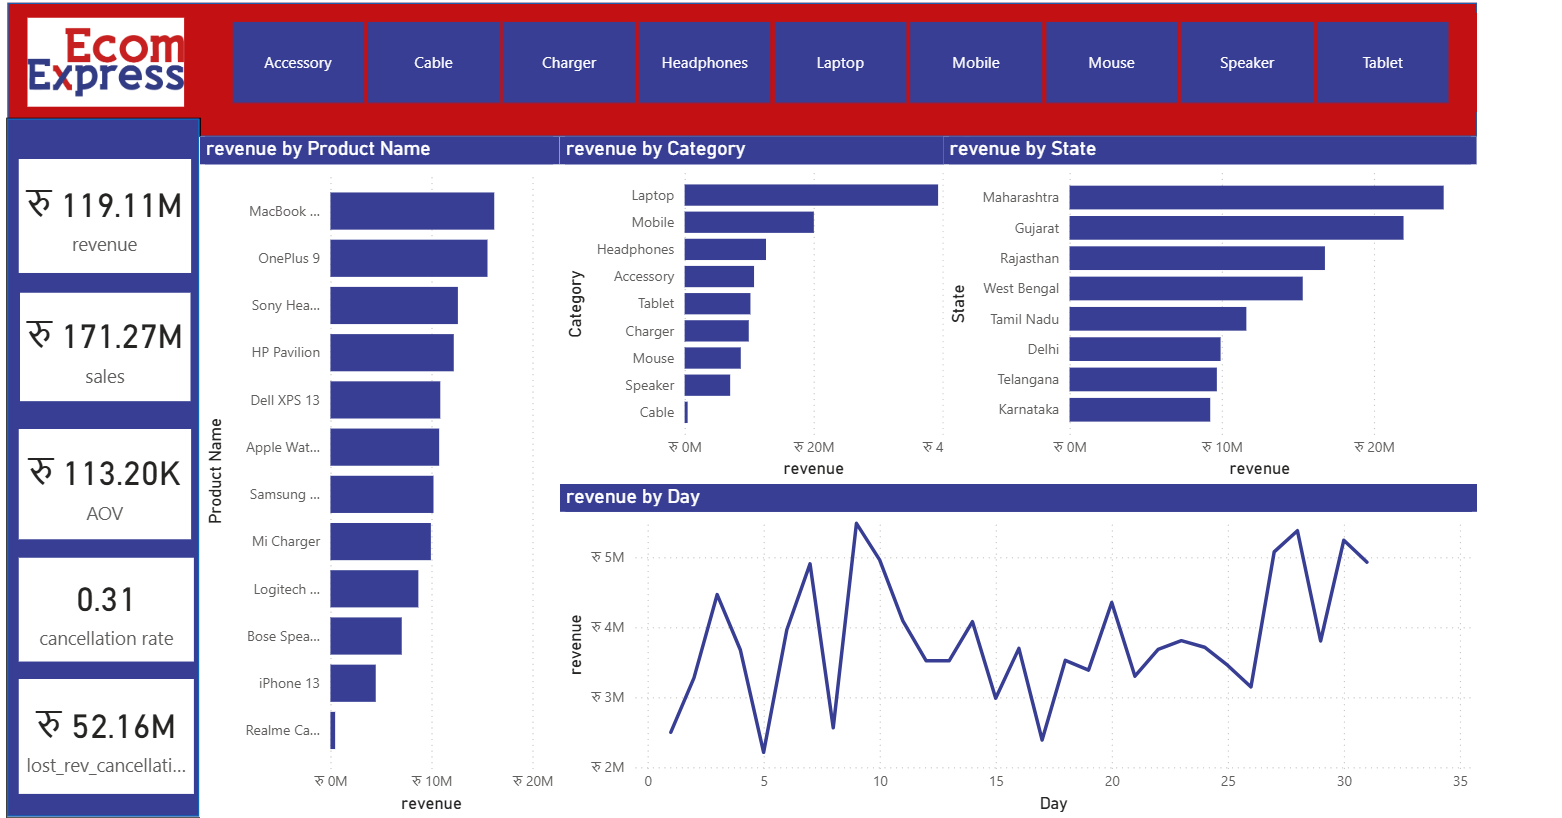

What the dashboard file says about the page in this screenshot:
{"tool":"powerbi","page":{"name":"Page 1","canvas":[1280,720],"ordinal":0},"visuals":[{"type":"shape","box":[10.7,16,1269,115.7],"z":0},{"type":"shape","box":[10,115.2,167.8,604.4],"z":1000},{"type":"image","box":[27.6,28.8,135.4,76.7],"z":2000},{"type":"clusteredBarChart","fields":{"Category":["Products.Product Name"],"Y":["table.revenue"]},"box":[177.5,131.3,310.2,588.6],"z":3000},{"type":"clusteredBarChart","fields":{"Category":["Products.Category"],"Y":["table.revenue"]},"box":[487.7,131.3,353.5,300.1],"z":4000},{"type":"lineChart","fields":{"Category":["Orders.Date and time of purchase.Variation.Date Hierarchy.Year","Orders.Date and time of purchase.Variation.Date Hierarchy.Quarter","Orders.Date and time of purchase.Variation.Date Hierarchy.Month","Orders.Date and time of purchase.Variation.Date Hierarchy.Day"],"Y":["table.revenue"]},"box":[487.7,431.4,792.1,288.6],"z":5000},{"type":"clusteredBarChart","fields":{"Category":["Customers.State"],"Y":["table.revenue"]},"box":[819.5,131.3,460.2,300.1],"z":6000},{"type":"slicer","title":"category","fields":{"Values":["Products.Category"]},"box":[178,24.9,1101.7,85.4],"z":7000},{"type":"card","fields":{"Values":["table.revenue"]},"box":[20.2,151.5,148.6,98.1],"z":8000},{"type":"card","fields":{"Values":["table.cancellation rate"]},"box":[20.2,494.9,151.5,89.5],"z":9000},{"type":"card","fields":{"Values":["table.sales"]},"box":[21.6,266.9,147.2,93.8],"z":10000},{"type":"card","fields":{"Values":["table.AOV"]},"box":[20.2,383.8,148.6,95.2],"z":11000},{"type":"card","fields":{"Values":["table.lost_rev_cancellation"]},"box":[20.2,600.2,151.5,99.6],"z":12000}]}

Visuals, with their boxes in screenshot pixels (x1, y1, x2, y2):
shape: pyautogui.locateOnScreen(12, 58, 1382, 183)
shape: pyautogui.locateOnScreen(11, 165, 192, 817)
image: pyautogui.locateOnScreen(30, 72, 176, 155)
clusteredBarChart - Products.Product Name x table.revenue: pyautogui.locateOnScreen(192, 183, 527, 817)
clusteredBarChart - Products.Category x table.revenue: pyautogui.locateOnScreen(527, 183, 909, 507)
lineChart - Orders.Date and time of purchase.Variation.Date Hierarchy.Year x Orders.Date and time of purchase.Variation.Date Hierarchy.Quarter: pyautogui.locateOnScreen(527, 507, 1382, 817)
clusteredBarChart - Customers.State x table.revenue: pyautogui.locateOnScreen(885, 183, 1382, 507)
"category" slicer: pyautogui.locateOnScreen(192, 68, 1382, 160)
card - table.revenue: pyautogui.locateOnScreen(22, 204, 182, 310)
card - table.cancellation rate: pyautogui.locateOnScreen(22, 575, 185, 672)
card - table.sales: pyautogui.locateOnScreen(23, 329, 182, 430)
card - table.AOV: pyautogui.locateOnScreen(22, 455, 182, 558)
card - table.lost_rev_cancellation: pyautogui.locateOnScreen(22, 689, 185, 797)
